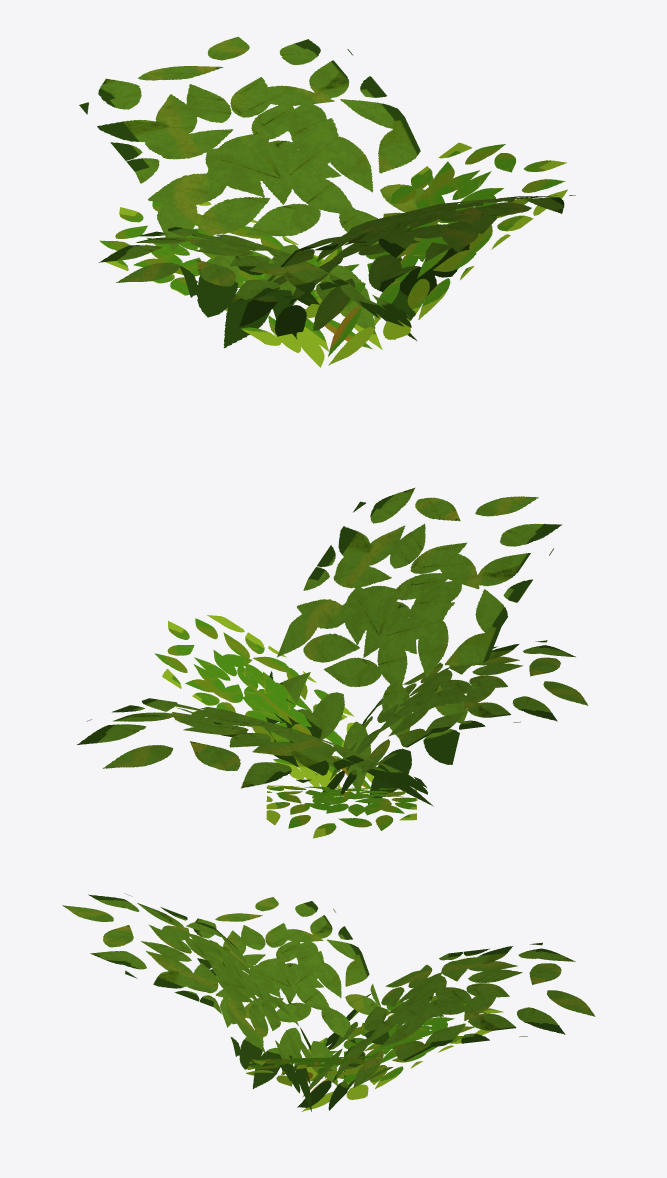
File: Folhitas_02.fbx
3 views of the same model, one above another, from view 1: azimuth 30°, elevation 25°; view 2: azimuth 150°, elevation 25°; view 3: azimuth 270°, elevation 25° (orthographic). The views are drawn at different scales.
Visible parts, largest first — view 1: LOWC1; view 2: LOWC1; view 3: LOWC1.
Part boxes in pixels (x1,y1,x2,y2): LOWC1: [79, 36, 575, 367]; LOWC1: [77, 487, 588, 838]; LOWC1: [62, 893, 595, 1111].
Size of the model in its own units: 5.28 by 2.42 by 7.06.
